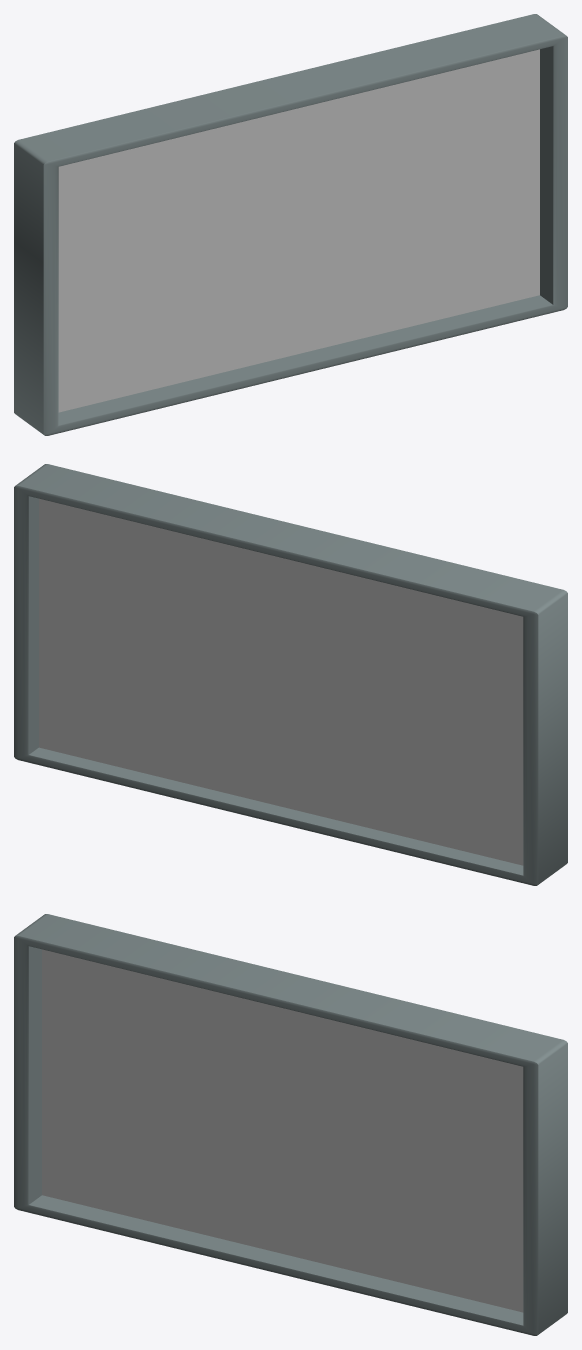
The model's file is Glass-Wall-3.fbx.
The picture shows the model from 3 angles, top to bottom: view 1: azimuth 30°, elevation 25°; view 2: azimuth 150°, elevation 25°; view 3: azimuth 330°, elevation 25°; orthographic projection.
Parts seen in each view (by area): view 1: Glass-Wall-3; view 2: Glass-Wall-3; view 3: Glass-Wall-3.
Part boxes in pixels (x1,y1,x2,y2): Glass-Wall-3: [14, 14, 567, 435]; Glass-Wall-3: [14, 464, 567, 885]; Glass-Wall-3: [14, 914, 567, 1335].
Bounding box in the file's own units: 2 × 1 × 0.2.
